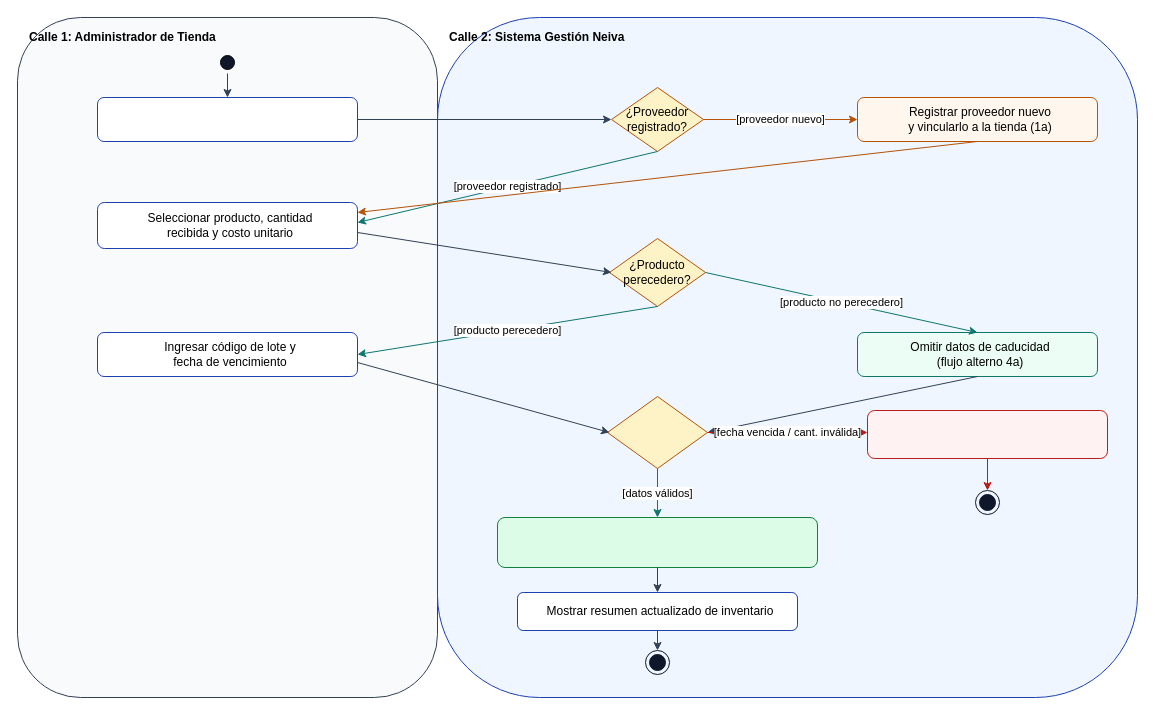
Some shapes in this 1155 by 715 pixel diagram are drawn without their labels. Each missing label, with the centre of its shape:
"Guardar compra, crear lote (si aplica) e incrementar stock disponible" goes at (657,542).
"Iniciar entrada de mercancía y buscar proveedor" goes at (227,119).
"Rechazar registro e indicar error de validación (6a)" goes at (987,434).
"¿Cantidad > 0 y fecha válida (> hoy)?" goes at (657,432).
